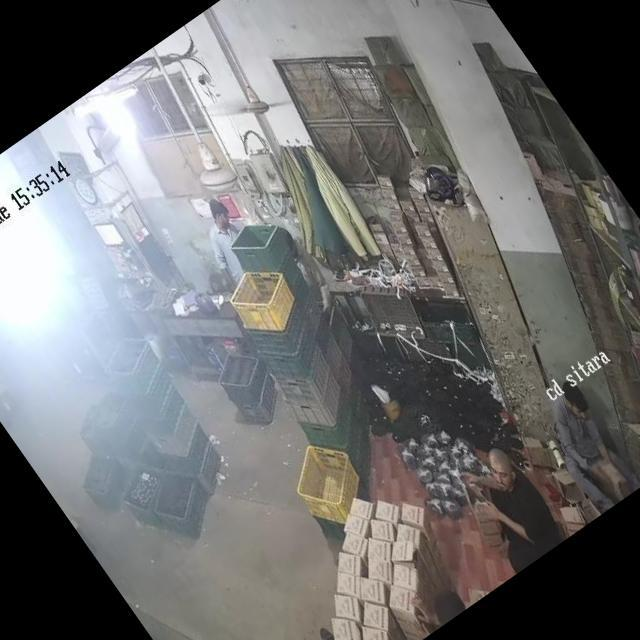person: (526, 367, 640, 509), (458, 442, 572, 570), (184, 191, 268, 290)
